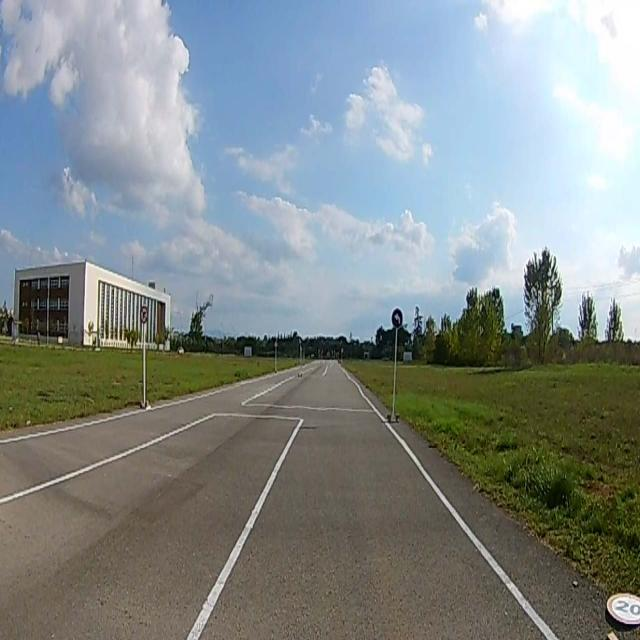sagadonulmez: (140, 306, 148, 322)
sol: (391, 307, 403, 329)
